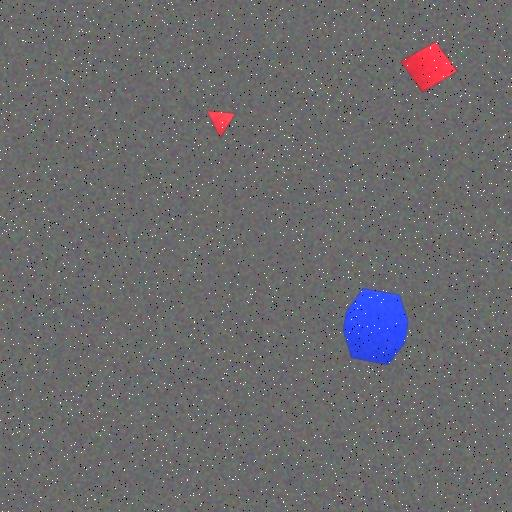RED_SQUARE: (400, 42, 458, 94)
